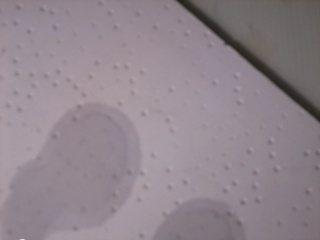Water_detected: (30, 123, 126, 209), (158, 204, 212, 240)
